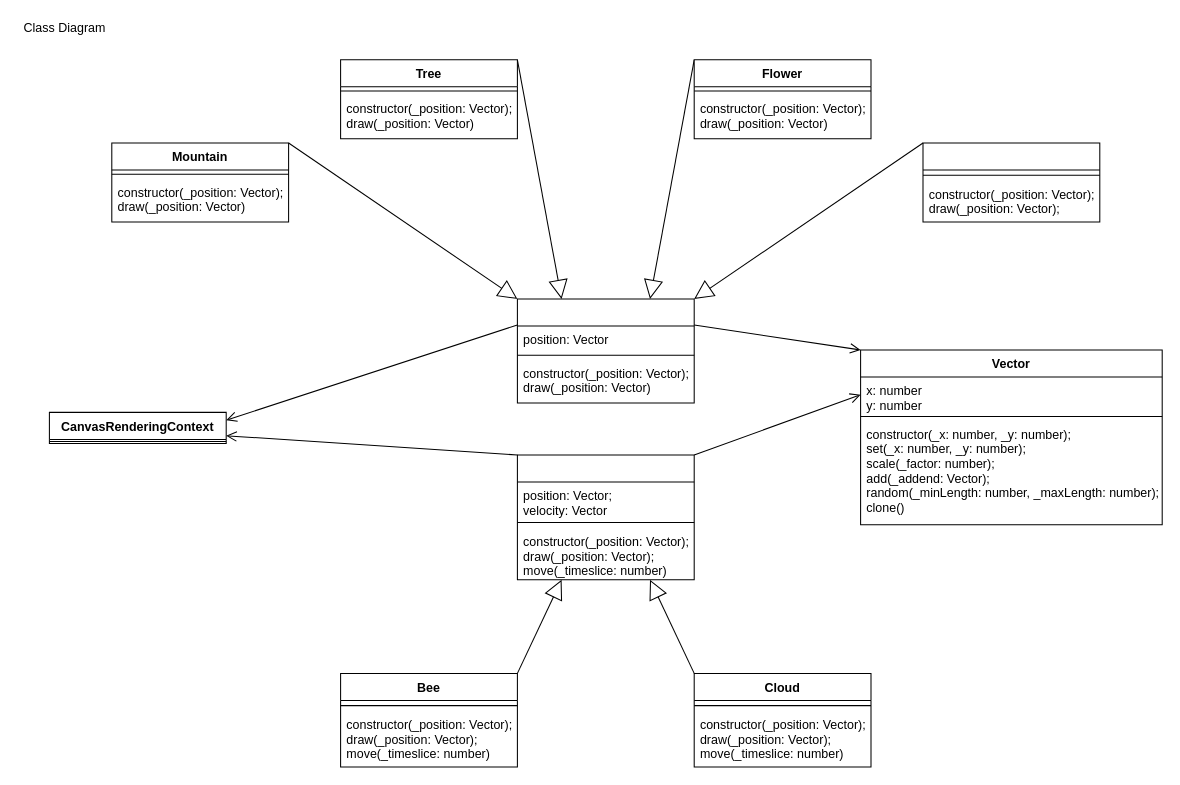
The diagram is 1180 pixels wide and 785 high, and some of its shapes have lost their labels. The box of each missing label's shape, as (x1, y1, x2, y2) in pixels:
Moveable: (516, 454, 694, 580)
Static: (516, 298, 694, 403)
Tulip: (922, 142, 1100, 222)
